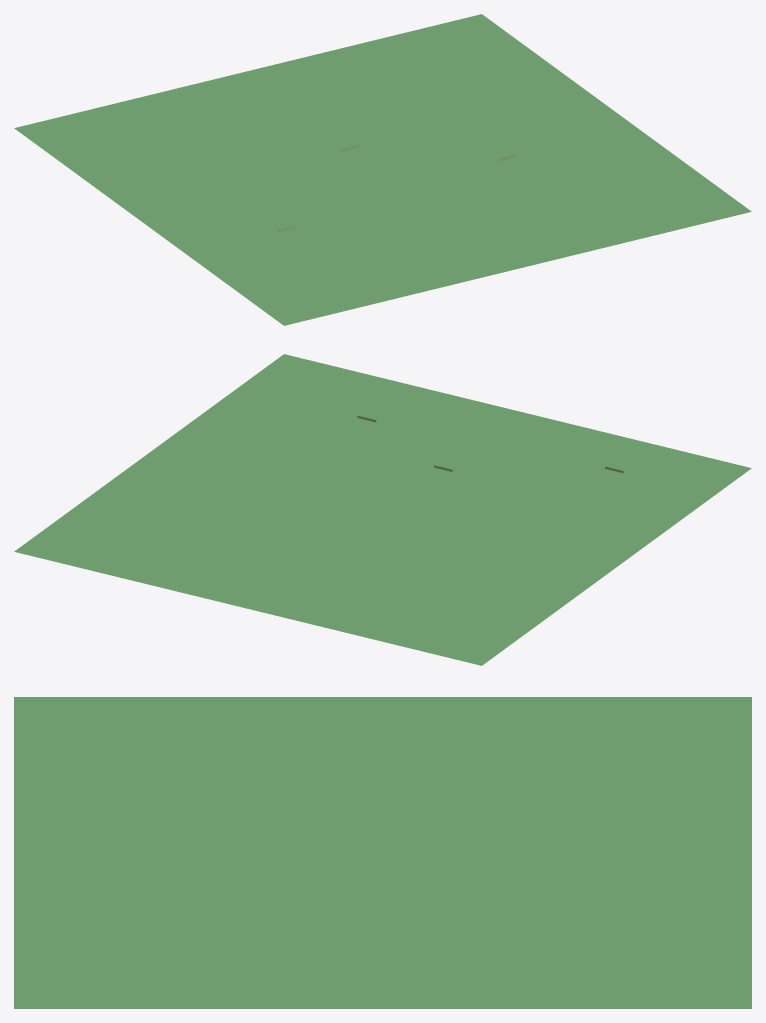
File: GROUND_COASTAL_GRASS_001_LOD_MAP.glb
3 views of the same model, one above another, from view 1: azimuth 30°, elevation 25°; view 2: azimuth 150°, elevation 25°; view 3: azimuth 270°, elevation 25° (orthographic). The views are drawn at different scales.
Visible parts, largest first — view 1: COASTAL_GROUND_PATCH_LOD2_EXPORT; view 2: COASTAL_GROUND_PATCH_LOD2_EXPORT; view 3: COASTAL_GROUND_PATCH_LOD2_EXPORT.
Part boxes in pixels (x1=…): COASTAL_GROUND_PATCH_LOD2_EXPORT: x1=14, y1=14, x2=751, y2=325; COASTAL_GROUND_PATCH_LOD2_EXPORT: x1=14, y1=354, x2=751, y2=665; COASTAL_GROUND_PATCH_LOD2_EXPORT: x1=14, y1=697, x2=751, y2=1008.
Bounding box in the file's own units: 2 × 0.1798 × 2.
